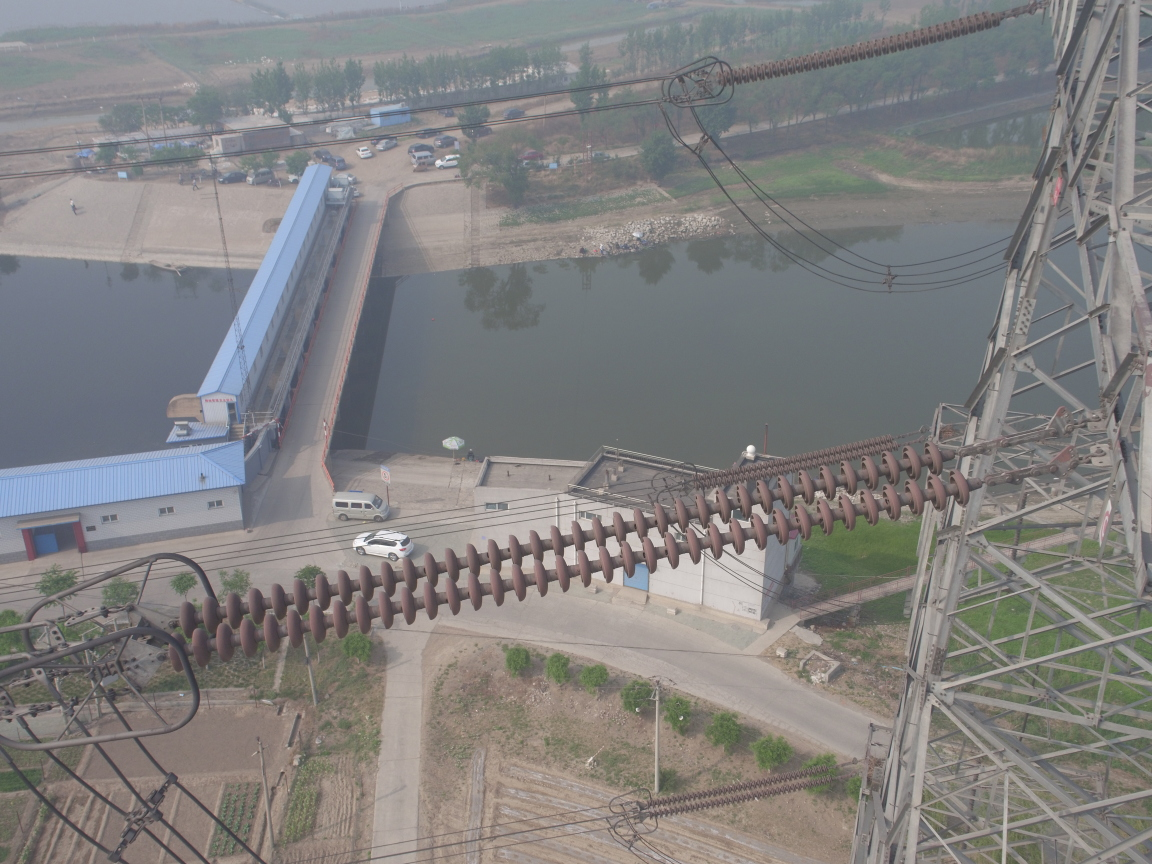insulator: (158, 437, 1016, 678), (714, 7, 1028, 84), (678, 425, 917, 488), (643, 762, 851, 822)
